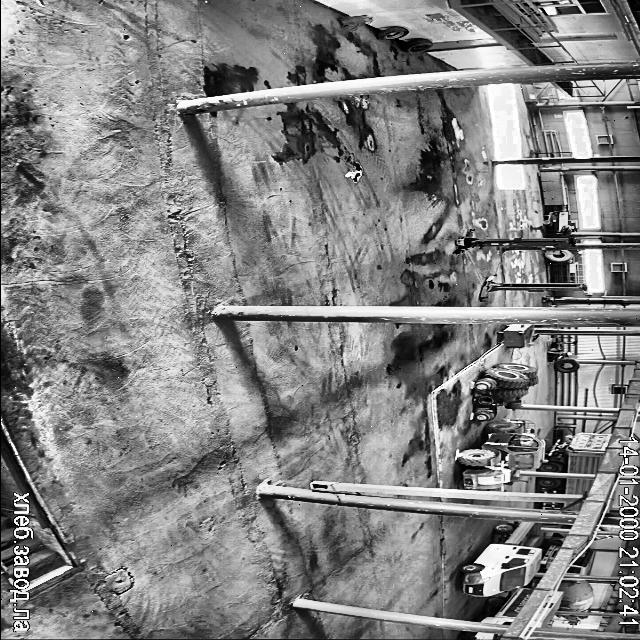car lift: (454, 227, 575, 253), (479, 275, 588, 300)
fire extinguisher: (340, 15, 372, 24)
tractor: (459, 420, 544, 489), (475, 362, 538, 420)
truck: (460, 522, 540, 596), (540, 432, 612, 472), (483, 588, 532, 624), (558, 580, 594, 611), (538, 476, 591, 494), (538, 592, 562, 628), (540, 536, 563, 572), (567, 549, 595, 574), (463, 632, 500, 640), (543, 500, 562, 508), (567, 504, 580, 510), (564, 616, 580, 620)
